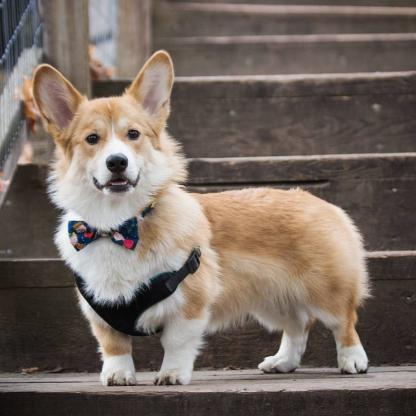Korgi: (27, 50, 376, 390)
